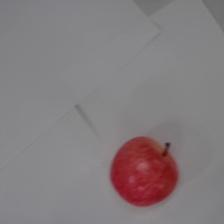red: (108, 134, 178, 207)
